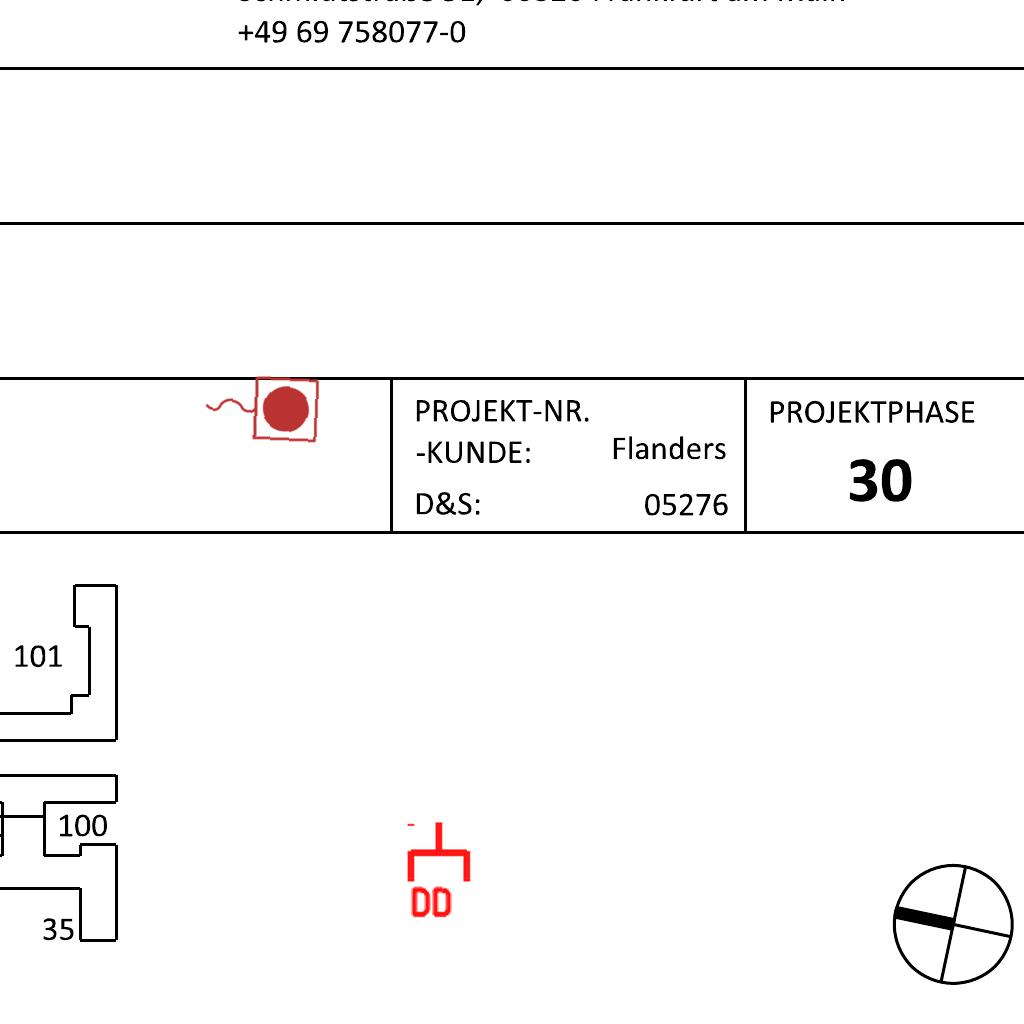Datenanschluss_zweifach: (406, 819, 475, 922)
Zugtaster: (198, 367, 324, 447)
